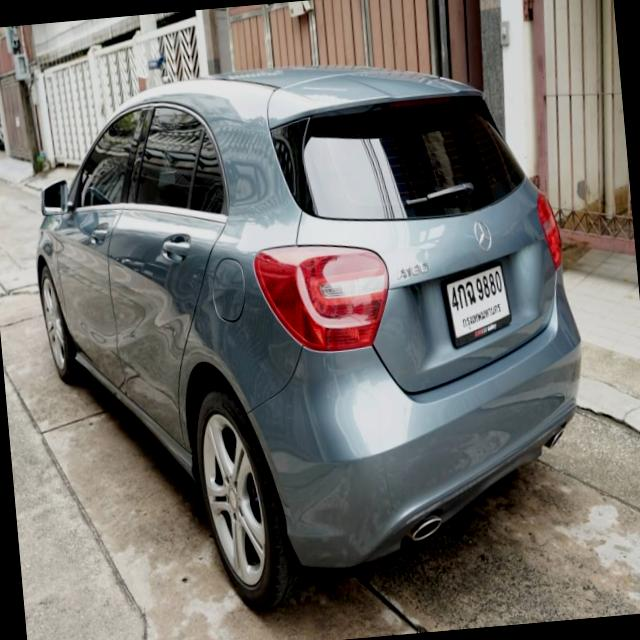license_plate: (439, 258, 514, 349)
